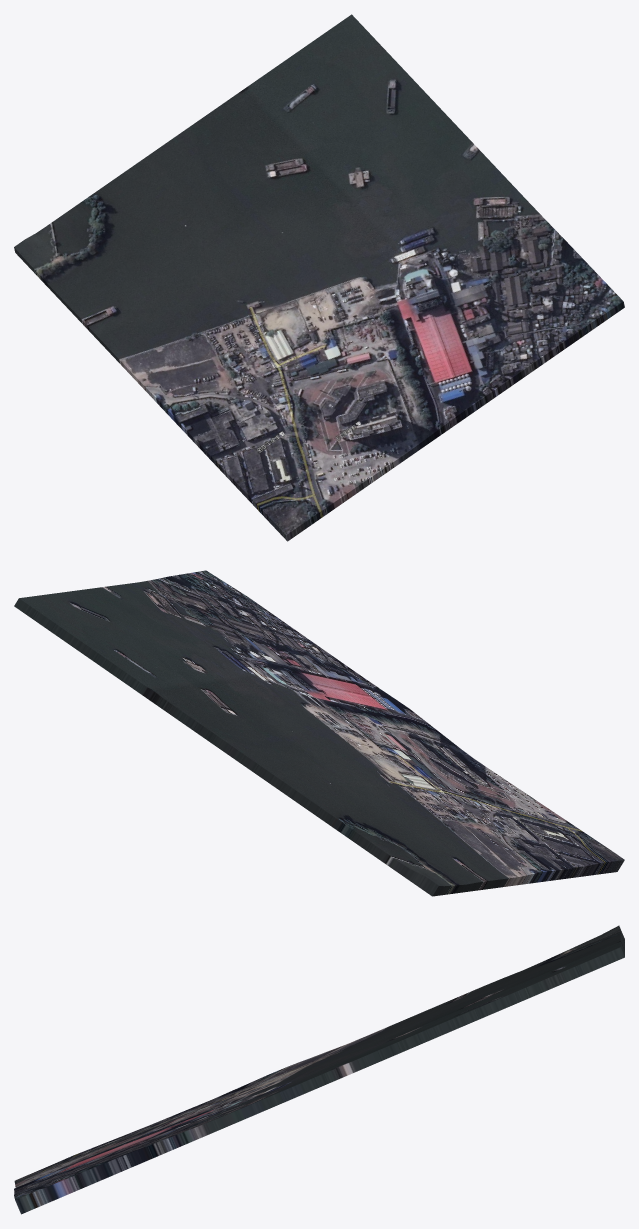
The picture shows the model from 3 angles, top to bottom: view 1: azimuth 30°, elevation 25°; view 2: azimuth 150°, elevation 25°; view 3: azimuth 270°, elevation 25°; orthographic projection. The views are drawn at different scales.
Parts seen in each view (by area): view 1: 0_21_12; view 2: 0_21_12; view 3: 0_21_12.
Boxes of the visible parts, x1=… form: 0_21_12: x1=14, y1=14, x2=624, y2=541; 0_21_12: x1=14, y1=570, x2=624, y2=896; 0_21_12: x1=14, y1=925, x2=624, y2=1214.
Bounding box in the file's own units: 597 × 436 × 549.
1 material, 1 textured.
